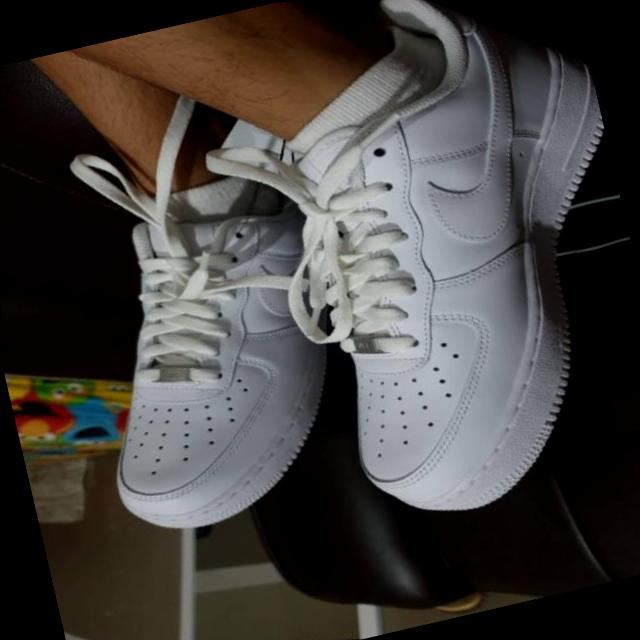nike_original_airforce: (181, 0, 640, 582), (26, 94, 402, 572)
